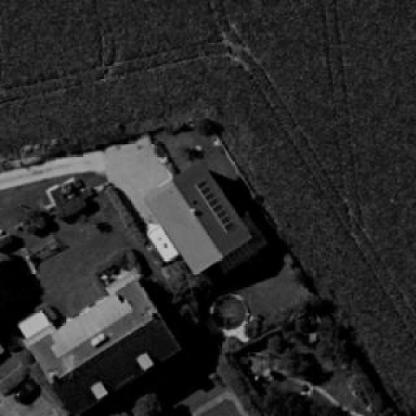solar-pv-panel: (196, 179, 236, 232)
